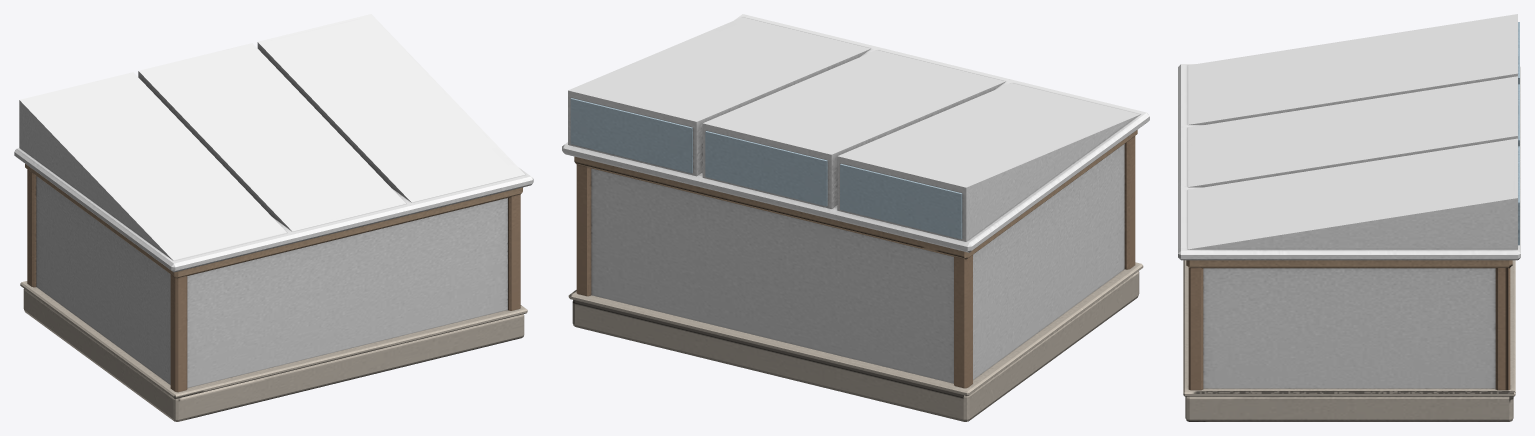
File: laden.glb
3 renders of one model, left to right at view 1: azimuth 30°, elevation 25°; view 2: azimuth 150°, elevation 25°; view 3: azimuth 270°, elevation 25°, orthographic. The views are drawn at different scales.
Parts seen in each view (by area): view 1: Dach, Wand; view 2: Wand, Dach; view 3: Dach, Wand.
Boxes of the visible parts, <box> form: Dach: <box>14,14,533,272</box>; Wand: <box>20,164,527,421</box>; Wand: <box>568,98,1143,421</box>; Dach: <box>562,14,1149,252</box>; Dach: <box>1178,14,1520,260</box>; Wand: <box>1183,22,1519,421</box>.
Size of the model in its own units: 4.26 by 2.37 by 3.26.
1 material, 1 textured.
